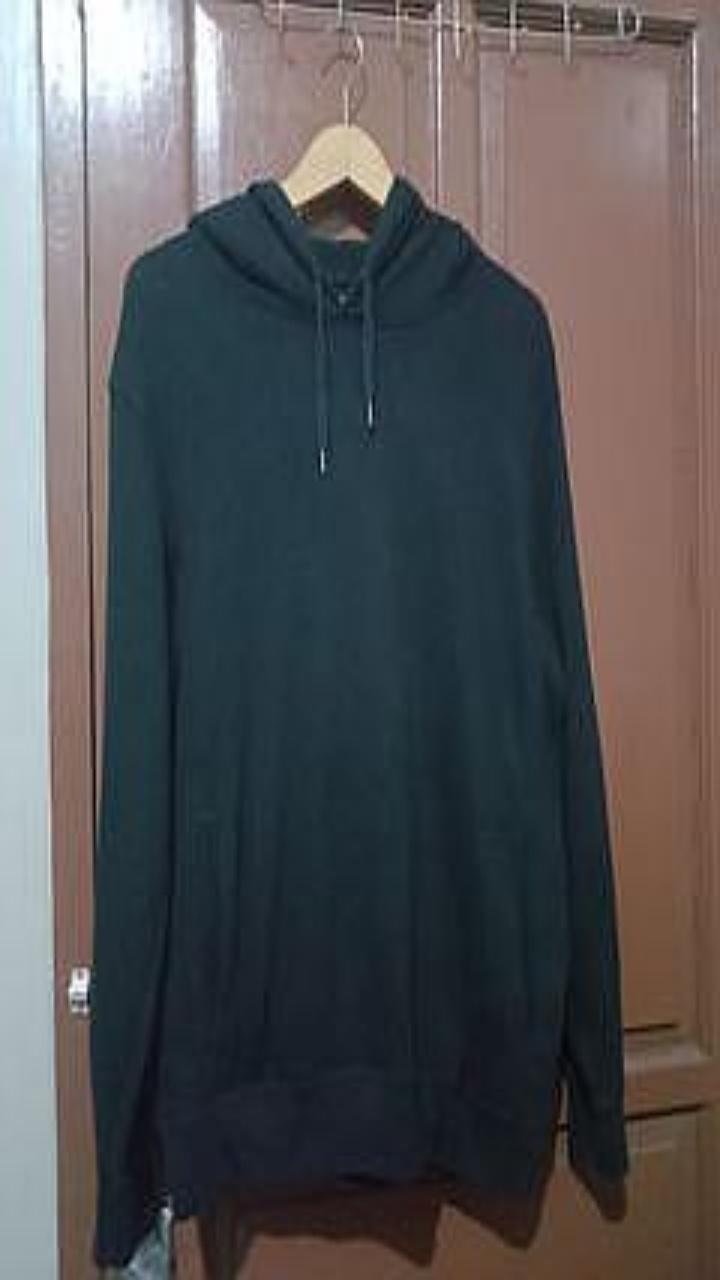Hoodie: (90, 174, 627, 1265)
